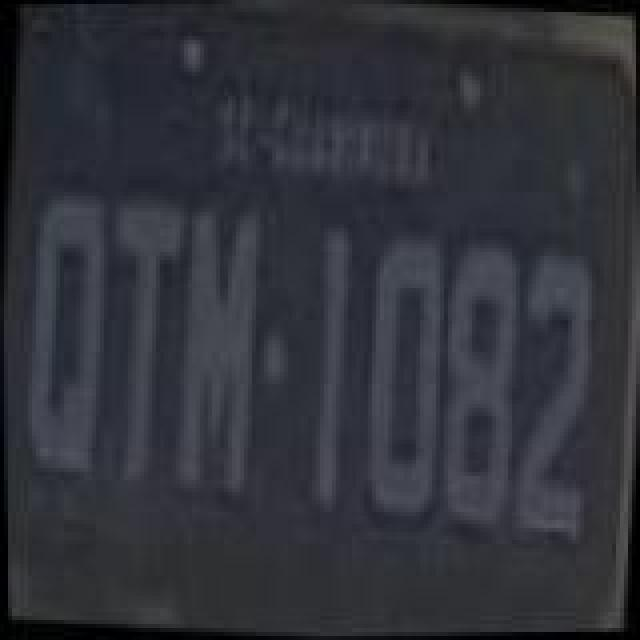1: (300, 220, 360, 512)
2: (502, 240, 610, 552)
8: (432, 230, 536, 546)
M: (164, 206, 272, 506)
O: (350, 226, 458, 534)
Q: (16, 188, 116, 484)
T: (90, 200, 194, 488)
